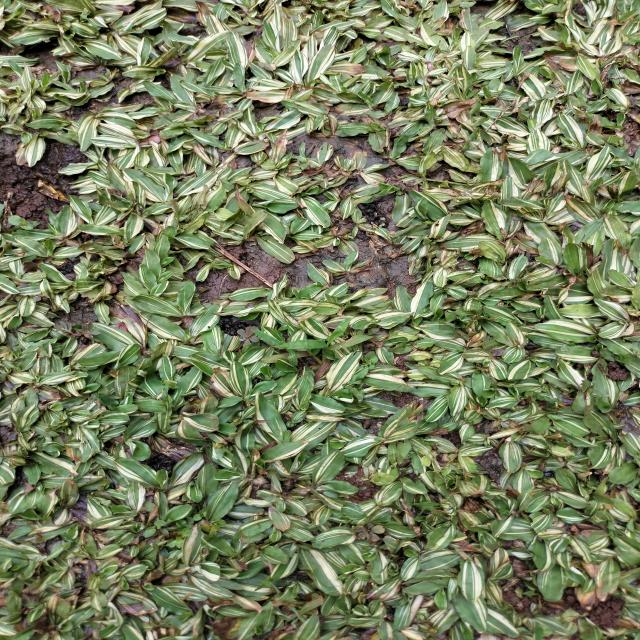buah daun: (52, 319, 102, 343), (353, 521, 389, 543), (236, 325, 263, 348)
rambat atas: (278, 316, 375, 354), (254, 328, 300, 370)
ungu tunggang: (7, 215, 41, 232)
